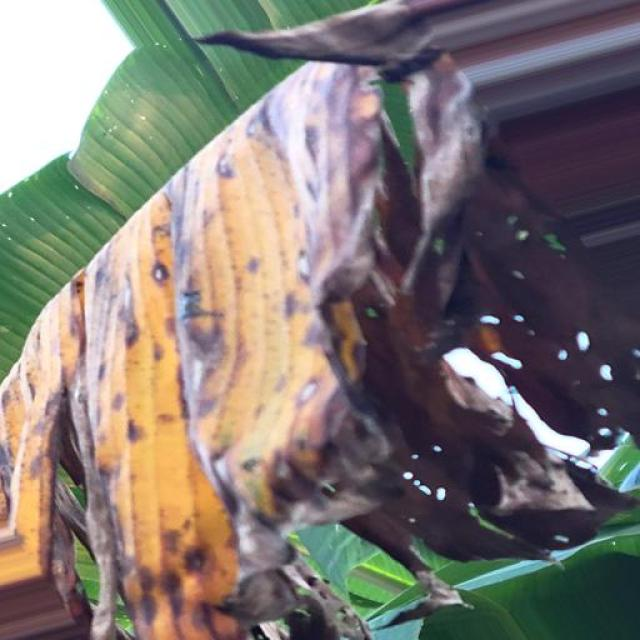Cordana: (4, 60, 640, 640)
